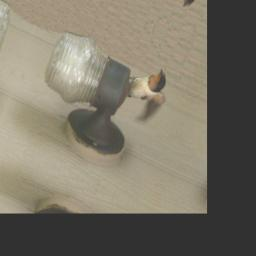Swallow: (117, 57, 175, 131)
